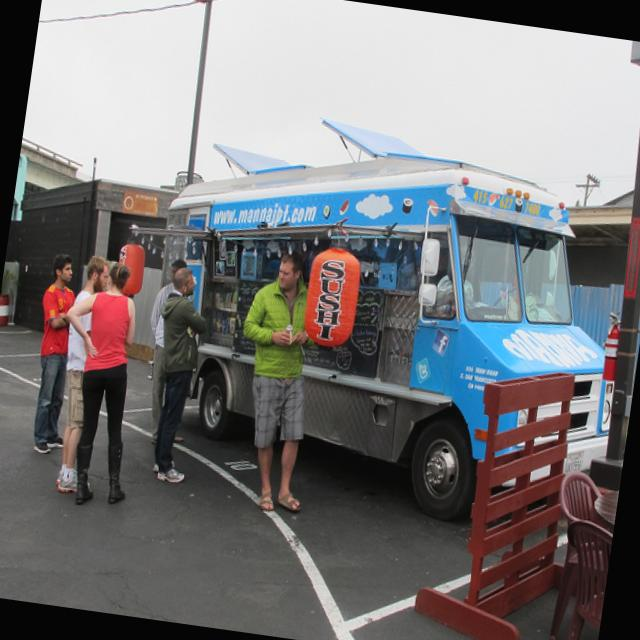Vehicle: (130, 102, 640, 540)
